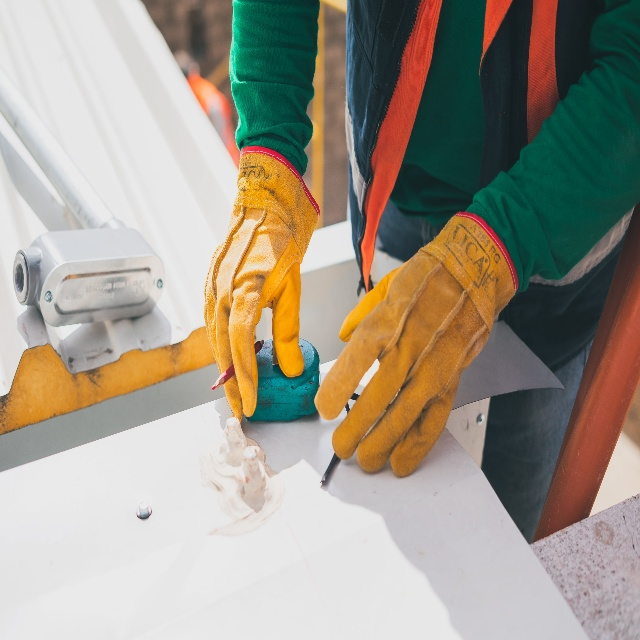Guantes: (311, 203, 520, 479), (199, 138, 322, 417)
